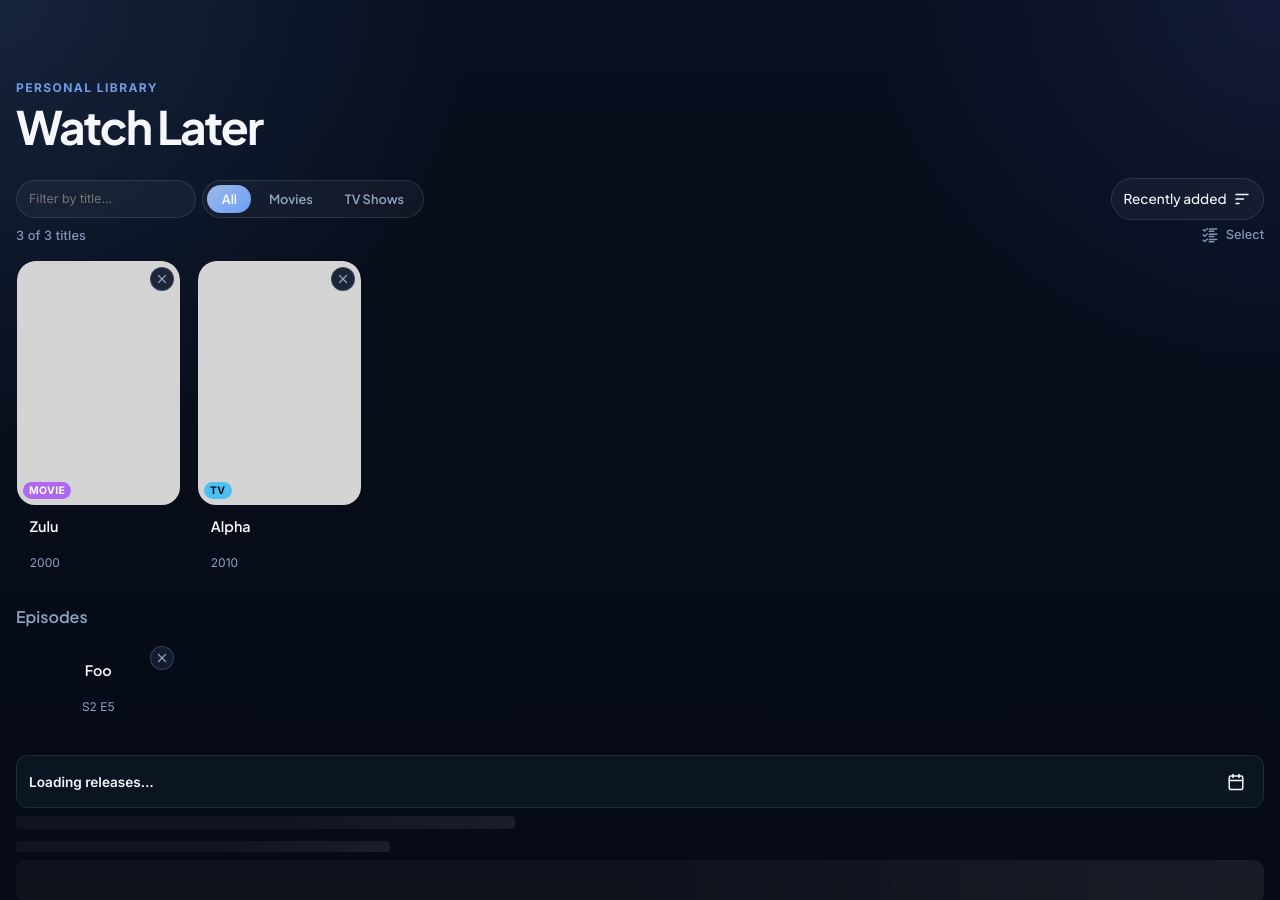
Test case: WatchLater card footer › Remove still removes an episode entry
Click the button named "Remove Foo S2 E5 from Watch Later" at [162, 658], box [150, 646, 174, 670]
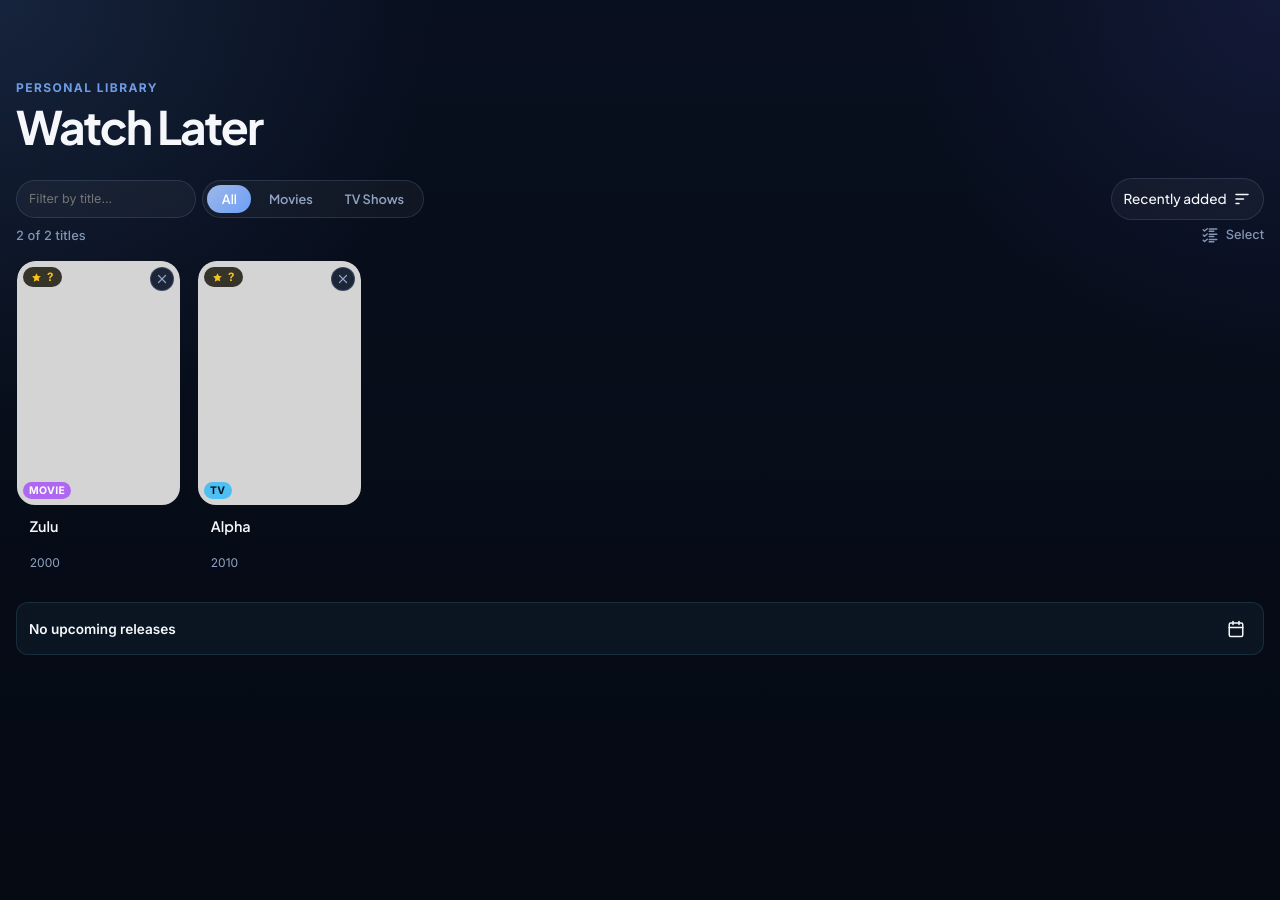
expect the link "Foo" is gone: met
